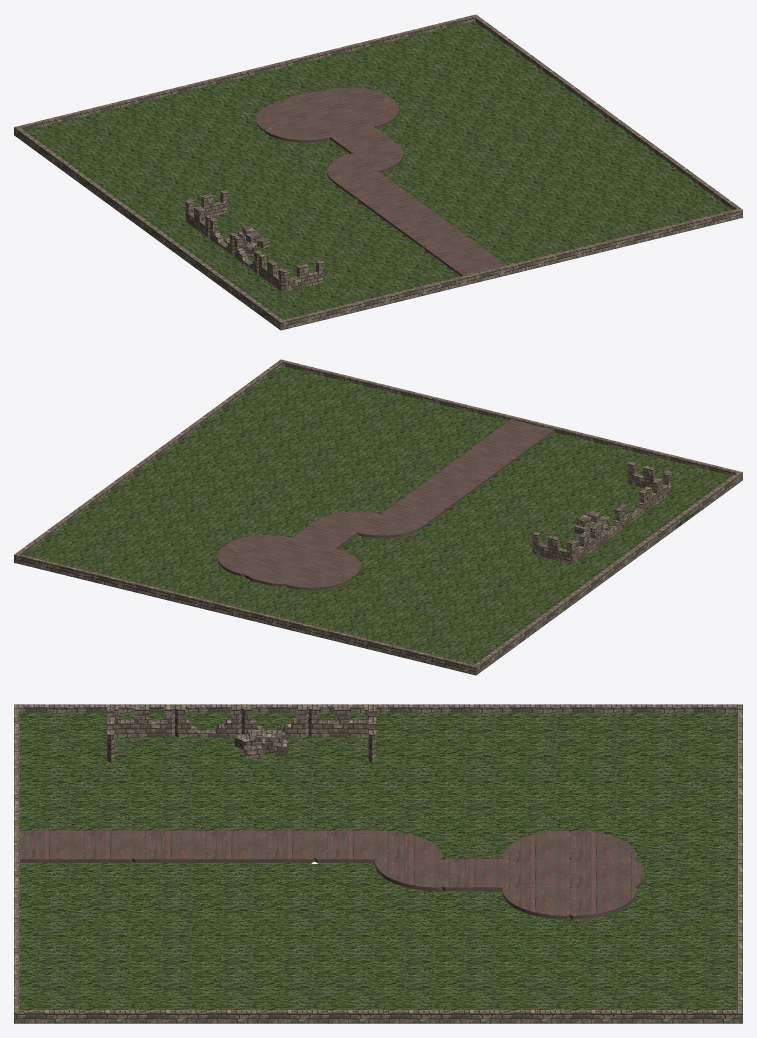
File: Ground.obj
The picture shows the model from 3 angles, top to bottom: view 1: azimuth 30°, elevation 25°; view 2: azimuth 150°, elevation 25°; view 3: azimuth 270°, elevation 25°; orthographic projection. The views are drawn at different scales.
Size of the model in its own units: 12 by 0.6 by 12.
